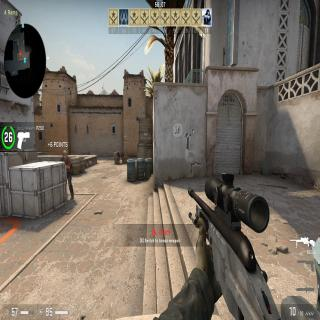T-Body: (62, 150, 75, 200)
T-Head: (62, 151, 67, 158)
